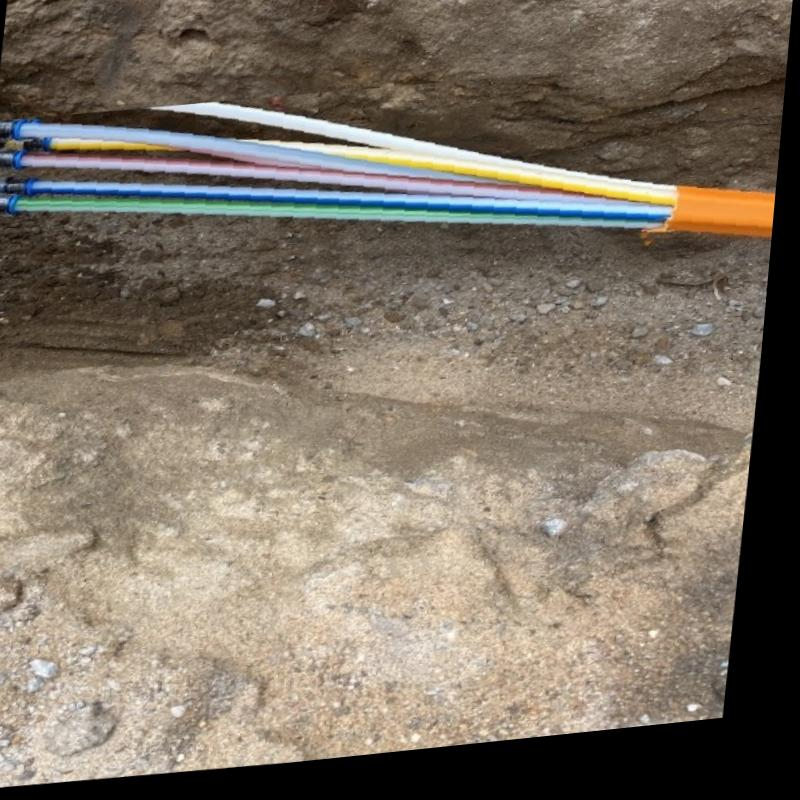Orang-Speednetrohrchen: (0, 109, 780, 253)
